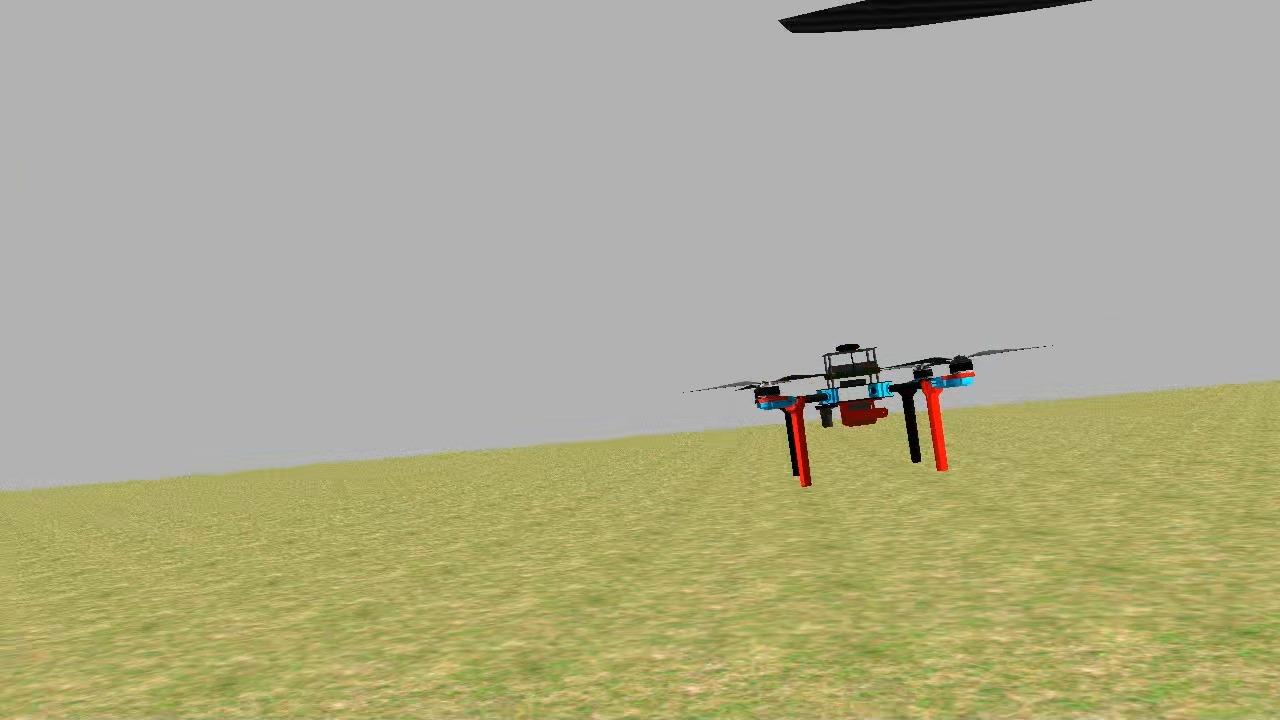UAV: (728, 330, 983, 504)
